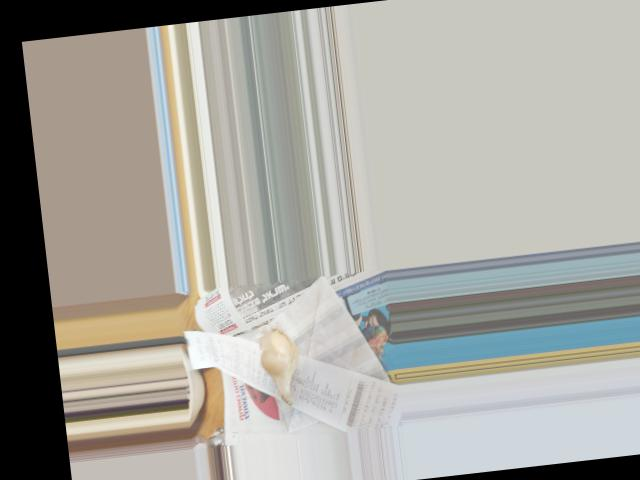onion: (257, 329, 306, 396)
